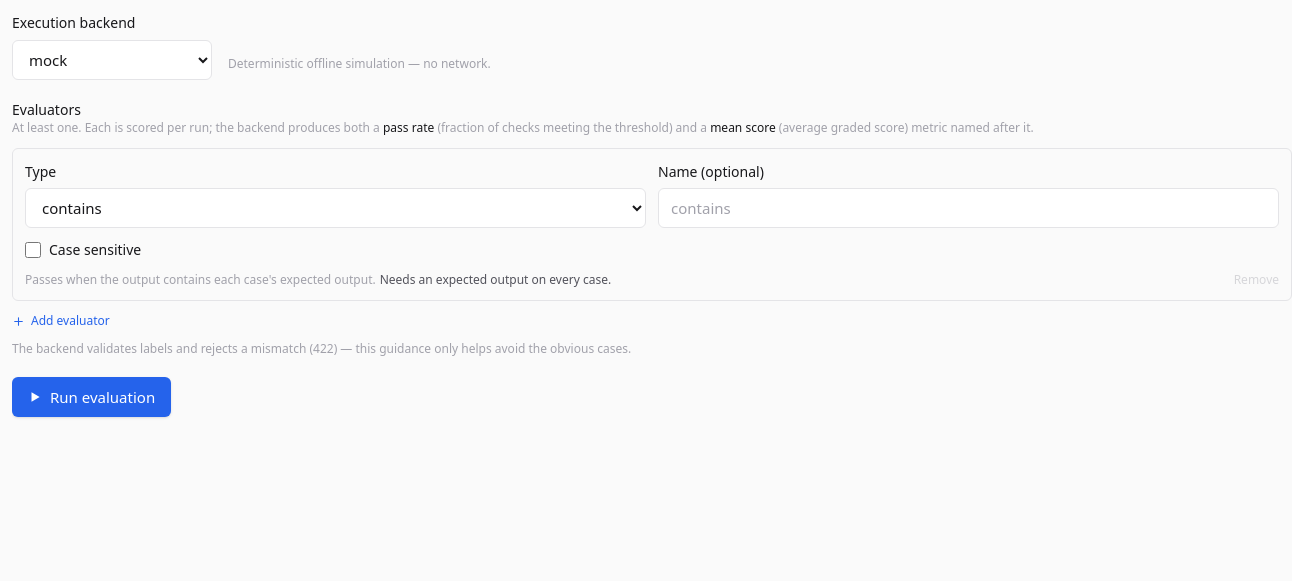
Test: RunForm — RAG & agent evaluator configuration › surfaces a backend 422 (label mismatch) without recomputing anything
Select "tool_success" in the dropdown labelled "Type" at coordinates (336, 208), box x1=25 y1=188 x2=646 y2=228
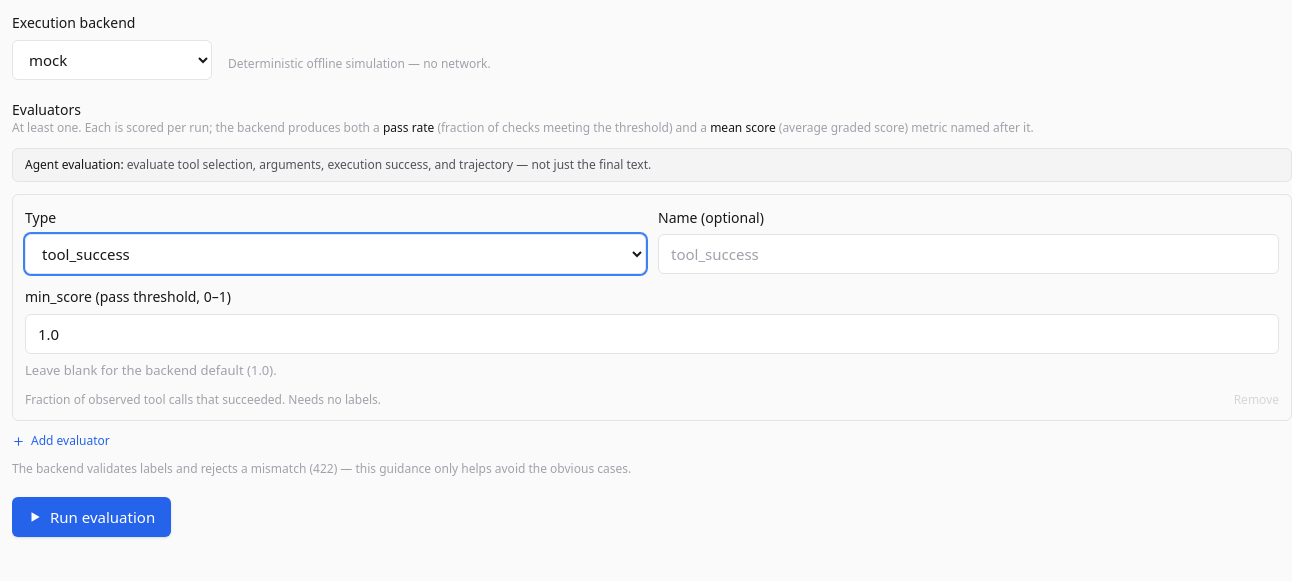
Click the button "Run evaluation" at coordinates (92, 517), box x1=12 y1=497 x2=171 y2=537
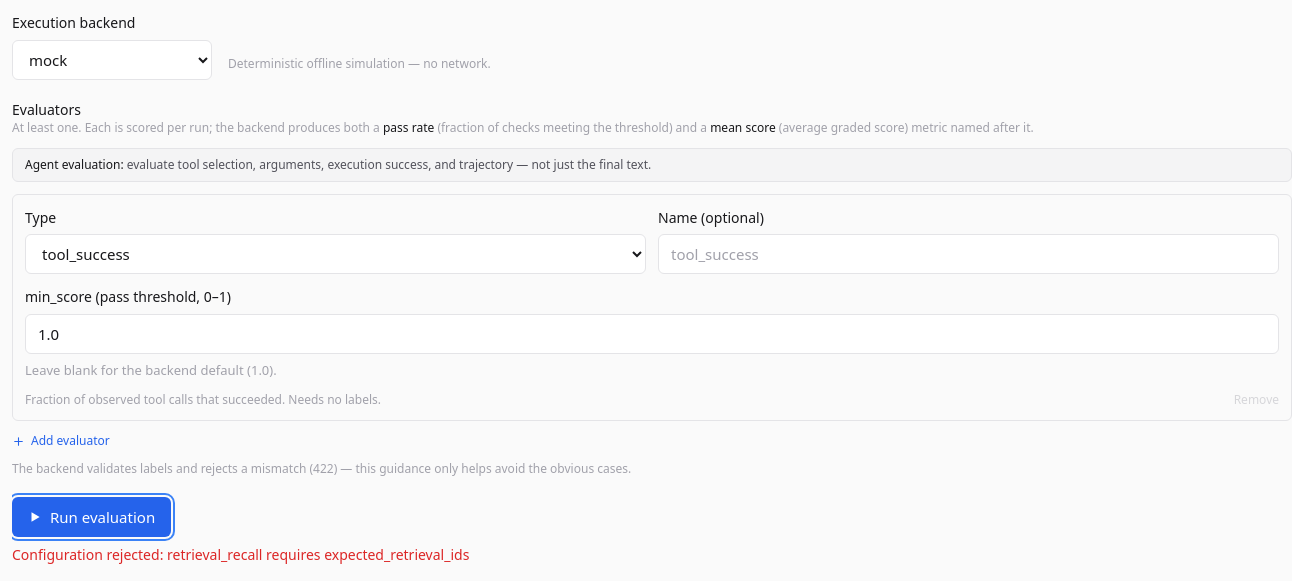
Expected: the text "Configuration rejected:" is shown, x1=12 y1=545 x2=469 y2=564
